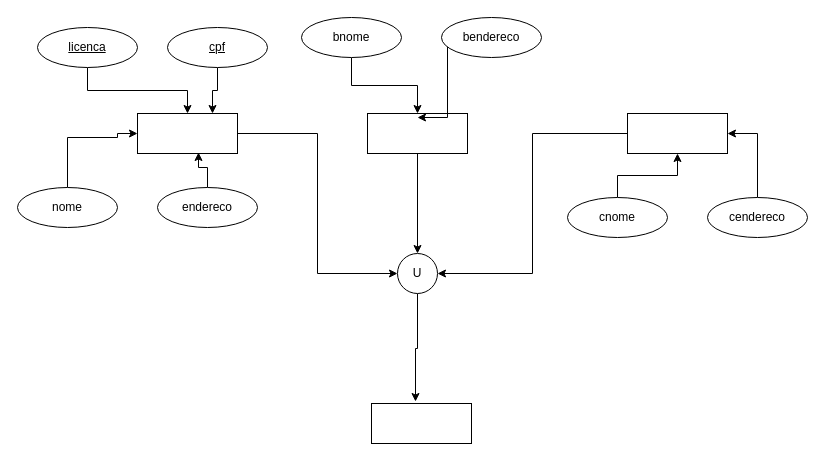
Image size: 825x461. Some labels were removed from this diagram. The shapes that lost their labels are listed below. From the top down, each one's box as (x1, y1, x2, y2) in pixels, then its label:
(136, 112, 238, 154): Pessoa
(366, 112, 468, 154): Banco
(626, 112, 728, 154): Companhia
(370, 402, 472, 444): Dono
